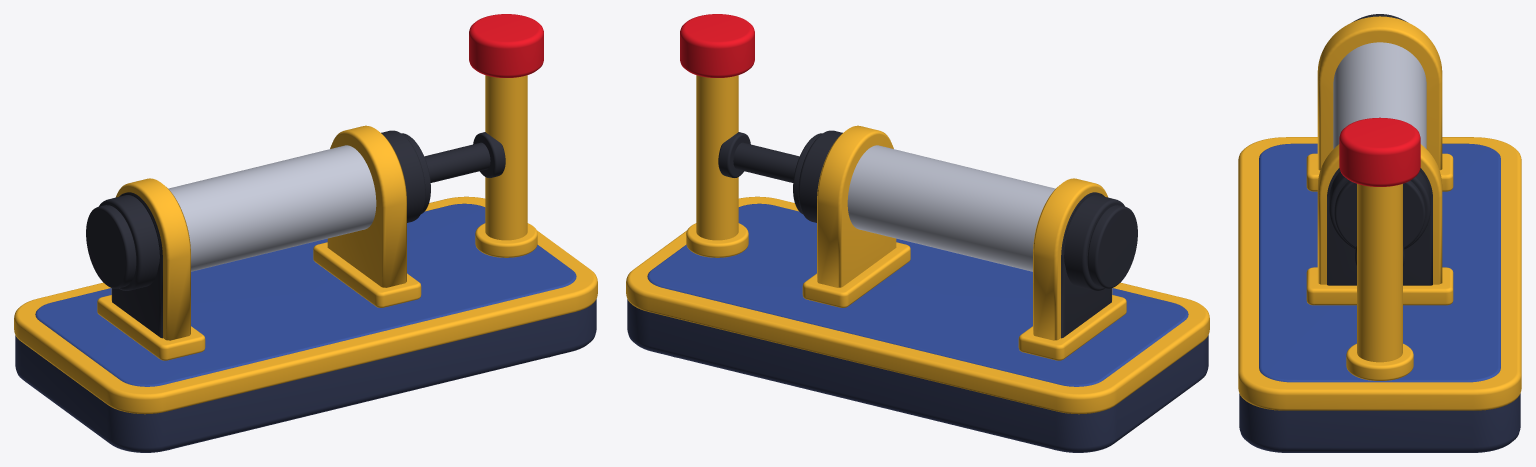
The model's file is ExchangeStation.glb.
3 renders of one model, left to right at view 1: azimuth 30°, elevation 25°; view 2: azimuth 150°, elevation 25°; view 3: azimuth 270°, elevation 25°, orthographic. The views are drawn at different scales.
Visible parts, largest first — view 1: BlueTopInset, NavyBase, GoldBaseTrim, SilverDrum, RightGoldSupport, UprightGoldHandle, LeftGoldSupport, RedHandleCap, LeftEndCap, RightSupportFoot, LeftDarkBearing, LeftSupportFoot (+5 smaller); view 2: BlueTopInset, NavyBase, GoldBaseTrim, SilverDrum, RightGoldSupport, UprightGoldHandle, LeftGoldSupport, RedHandleCap, LeftEndCap, RightSupportFoot, LeftDarkBearing, LeftSupportFoot (+5 smaller); view 3: BlueTopInset, GoldBaseTrim, NavyBase, UprightGoldHandle, SilverDrum, LeftGoldSupport, RedHandleCap, RightDarkEndPlate, RightGoldSupport, RightSupportFoot, RightEndCap, HandleGoldCollar (+2 smaller).
Boxes of the visible parts, x1=… form: BlueTopInset: x1=35, y1=203, x2=576, y2=386; NavyBase: x1=15, y1=299, x2=596, y2=452; GoldBaseTrim: x1=14, y1=196, x2=597, y2=414; SilverDrum: x1=168, y1=145, x2=376, y2=271; RightGoldSupport: x1=327, y1=125, x2=406, y2=287; UprightGoldHandle: x1=485, y1=75, x2=527, y2=240; LeftGoldSupport: x1=111, y1=178, x2=190, y2=340; RedHandleCap: x1=469, y1=14, x2=543, y2=77; LeftEndCap: x1=86, y1=205, x2=136, y2=288; RightSupportFoot: x1=313, y1=242, x2=421, y2=307; LeftDarkBearing: x1=99, y1=195, x2=159, y2=290; LeftSupportFoot: x1=97, y1=295, x2=205, y2=360; BlueTopInset: x1=647, y1=203, x2=1188, y2=386; NavyBase: x1=627, y1=299, x2=1208, y2=452; GoldBaseTrim: x1=626, y1=196, x2=1209, y2=414; SilverDrum: x1=847, y1=145, x2=1055, y2=271; RightGoldSupport: x1=817, y1=125, x2=896, y2=287; UprightGoldHandle: x1=696, y1=75, x2=738, y2=240; LeftGoldSupport: x1=1033, y1=178, x2=1112, y2=340; RedHandleCap: x1=680, y1=14, x2=754, y2=77; LeftEndCap: x1=1087, y1=205, x2=1137, y2=288; RightSupportFoot: x1=802, y1=242, x2=910, y2=307; LeftDarkBearing: x1=1064, y1=195, x2=1124, y2=290; LeftSupportFoot: x1=1018, y1=295, x2=1126, y2=360; BlueTopInset: x1=1259, y1=143, x2=1500, y2=382; GoldBaseTrim: x1=1238, y1=137, x2=1521, y2=410; NavyBase: x1=1239, y1=393, x2=1520, y2=452; UprightGoldHandle: x1=1357, y1=184, x2=1402, y2=362; SilverDrum: x1=1333, y1=42, x2=1426, y2=148; LeftGoldSupport: x1=1317, y1=16, x2=1442, y2=170; RedHandleCap: x1=1339, y1=117, x2=1420, y2=186; RightDarkEndPlate: x1=1327, y1=168, x2=1432, y2=285; RightGoldSupport: x1=1317, y1=144, x2=1442, y2=284; RightSupportFoot: x1=1306, y1=267, x2=1453, y2=305; RightEndCap: x1=1334, y1=180, x2=1425, y2=248; HandleGoldCollar: x1=1346, y1=343, x2=1413, y2=380.
Bounding box in the file's own units: 1.5 × 0.853 × 0.705.
Materials: 6 (6 with a texture image).
